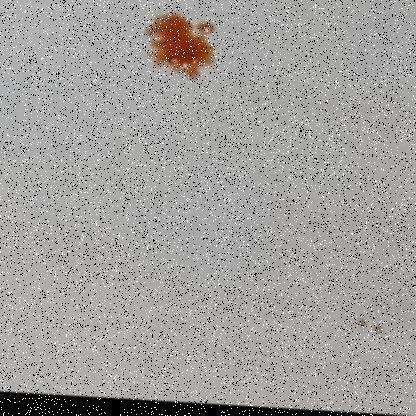kimchi: (144, 12, 224, 87)
